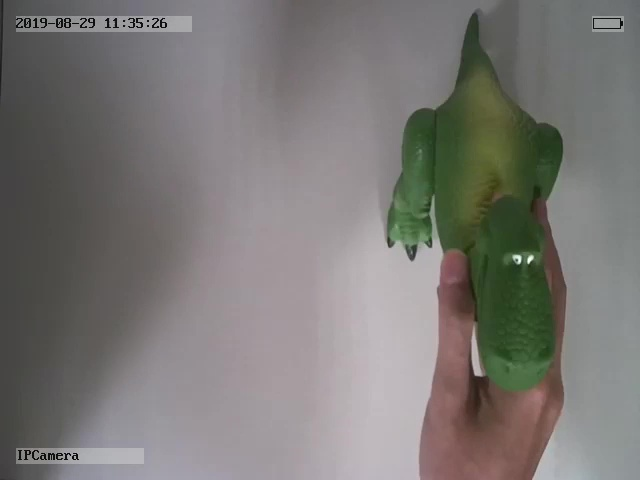rex: (386, 8, 564, 393)
